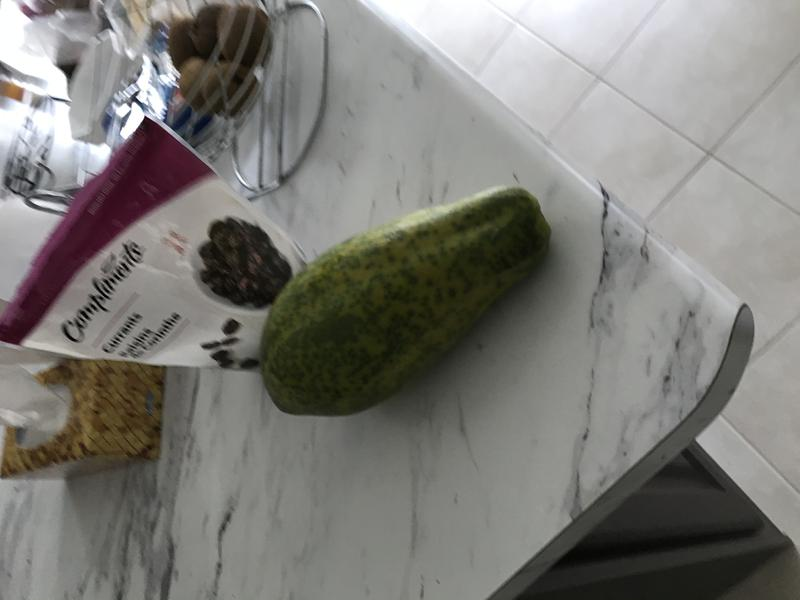papaya: (246, 175, 562, 428)
